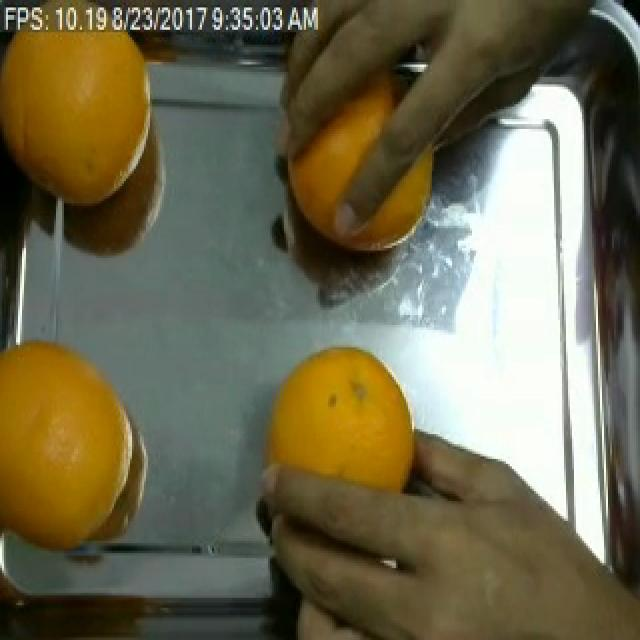Fruit: (0, 10, 154, 238), (248, 330, 426, 516)
